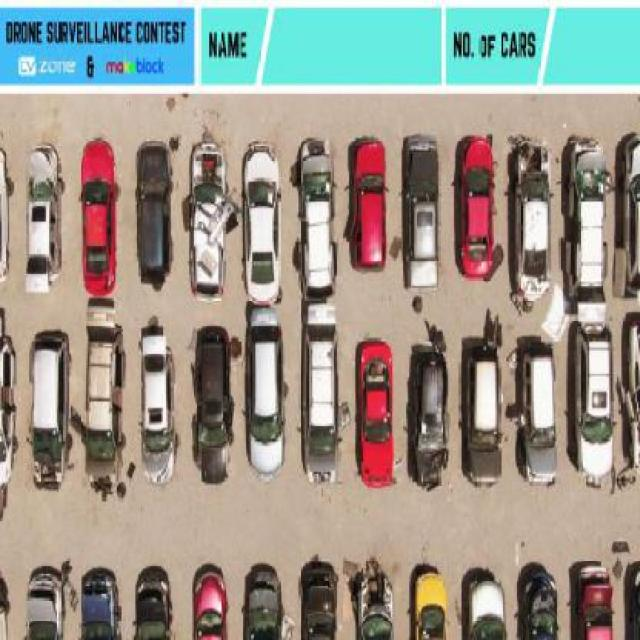bus: (83, 322, 116, 460)
car: (566, 136, 614, 298), (25, 328, 72, 488), (567, 314, 613, 476), (76, 134, 121, 294), (509, 139, 553, 301), (351, 337, 398, 486), (454, 132, 501, 280), (240, 144, 284, 302), (298, 140, 340, 301), (136, 315, 182, 457), (247, 307, 284, 477), (346, 134, 392, 269), (301, 302, 336, 479), (134, 136, 174, 289), (188, 140, 225, 298), (192, 322, 228, 484), (464, 340, 504, 484), (411, 336, 448, 489), (405, 134, 439, 292), (23, 140, 60, 276), (522, 343, 556, 486), (296, 551, 342, 640), (514, 557, 561, 640), (23, 561, 70, 640), (77, 564, 124, 640), (620, 127, 640, 299), (241, 561, 284, 640), (131, 567, 177, 640), (571, 560, 612, 640), (357, 565, 395, 640), (462, 574, 504, 640), (623, 312, 640, 474), (195, 568, 229, 640), (412, 569, 446, 640), (626, 560, 640, 640)
